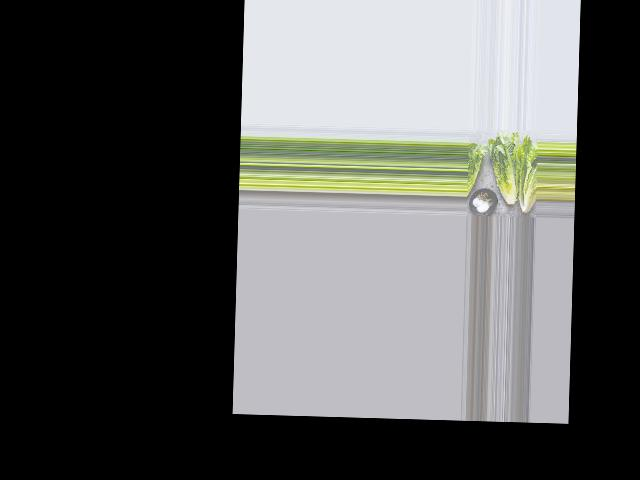lettuce: (515, 141, 537, 217)
